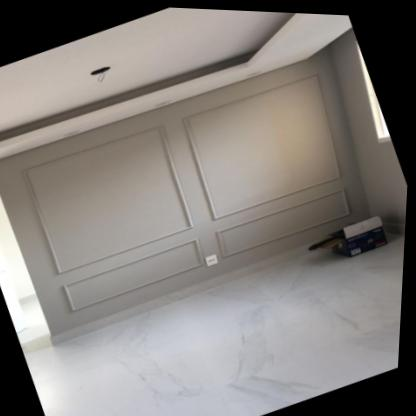Ceramic floor: (28, 229, 407, 416)
Futec frame: (0, 38, 388, 347)
